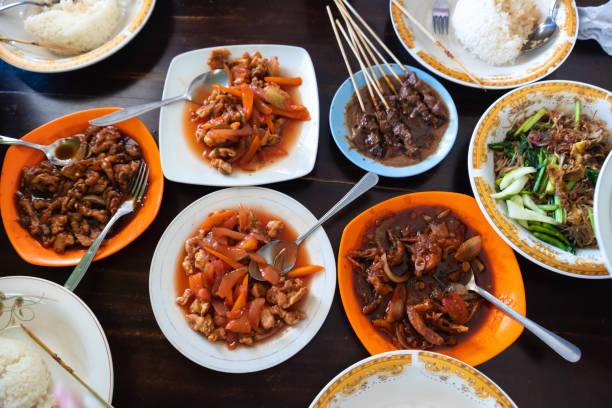Braised Crucian Carp: (147, 185, 333, 372), (336, 189, 523, 363), (468, 79, 608, 277), (0, 108, 161, 266), (158, 43, 317, 187), (327, 63, 458, 179)
